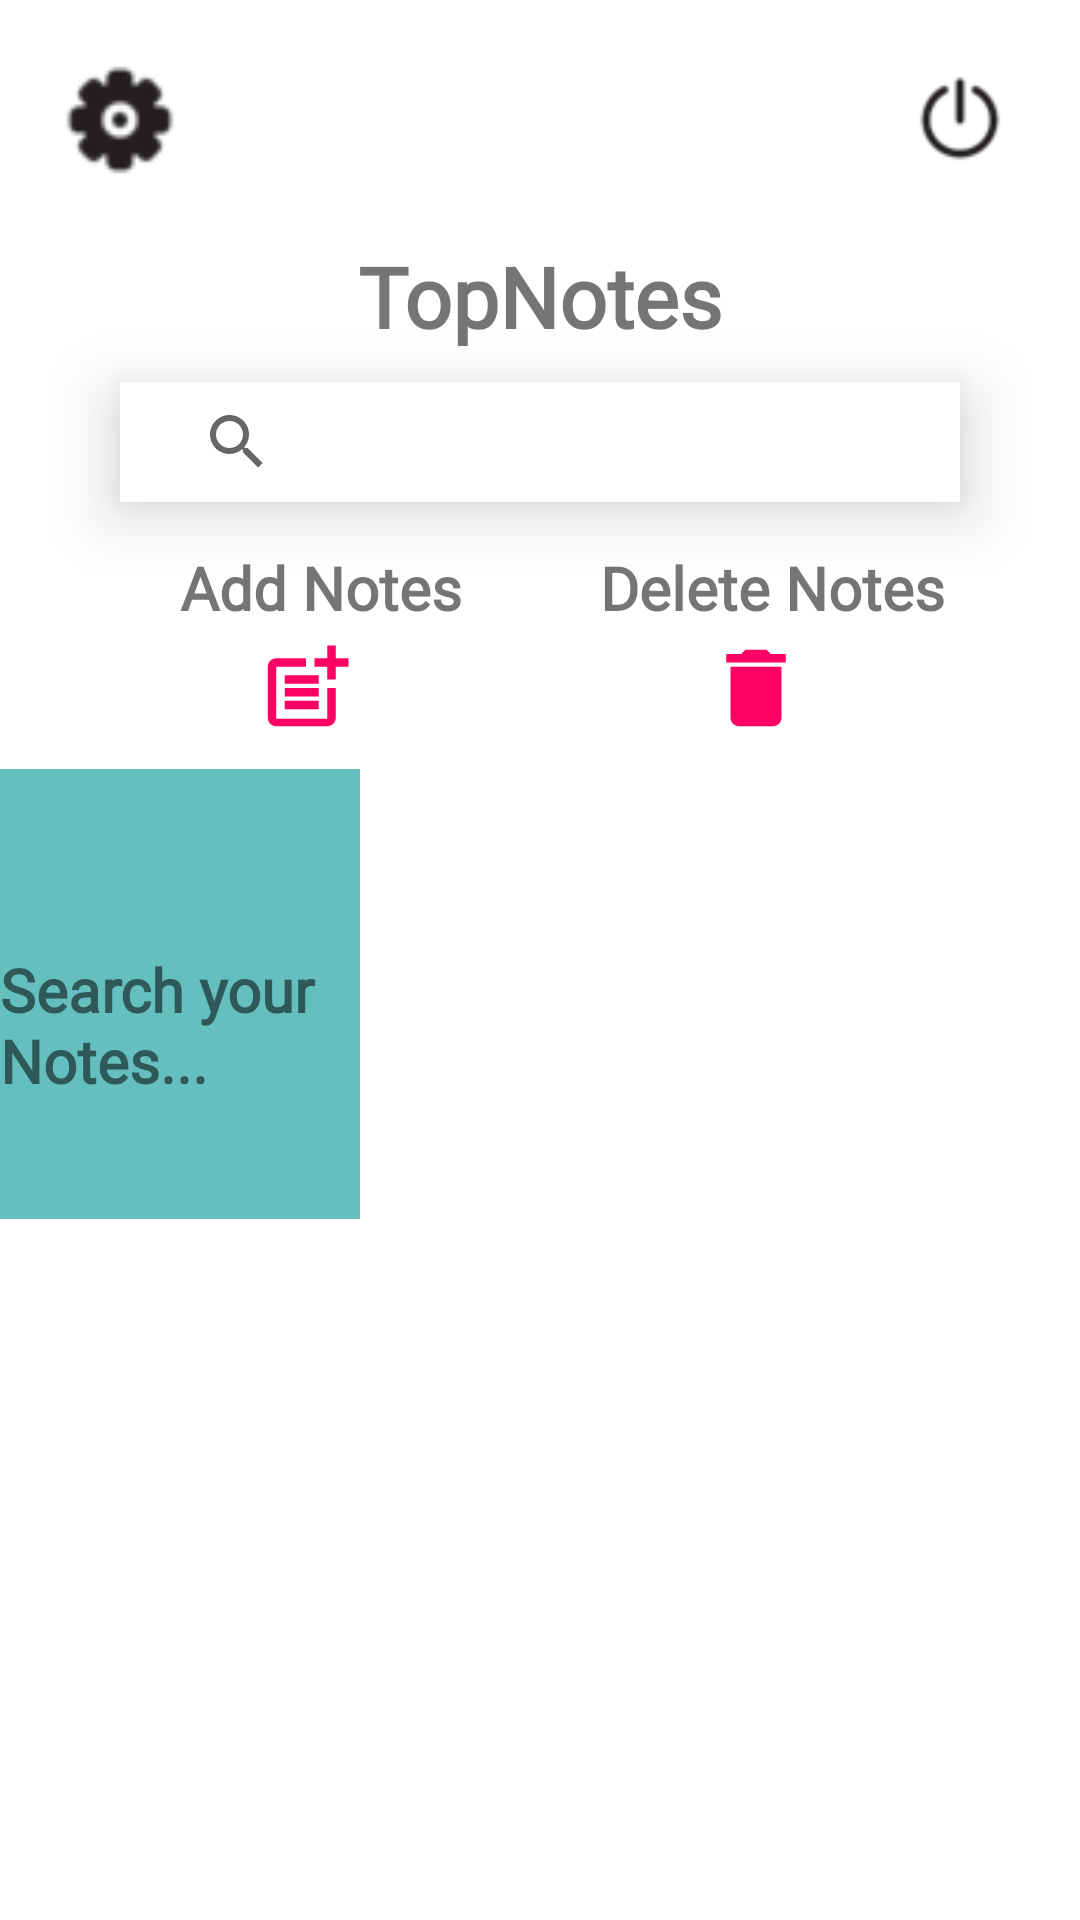

Where icons sit on this 1080 x 1920 app screen, as bbox=[x1, y1, x2, y2]:
power: bbox=[920, 77, 1000, 160]
settings: bbox=[67, 67, 173, 173]
